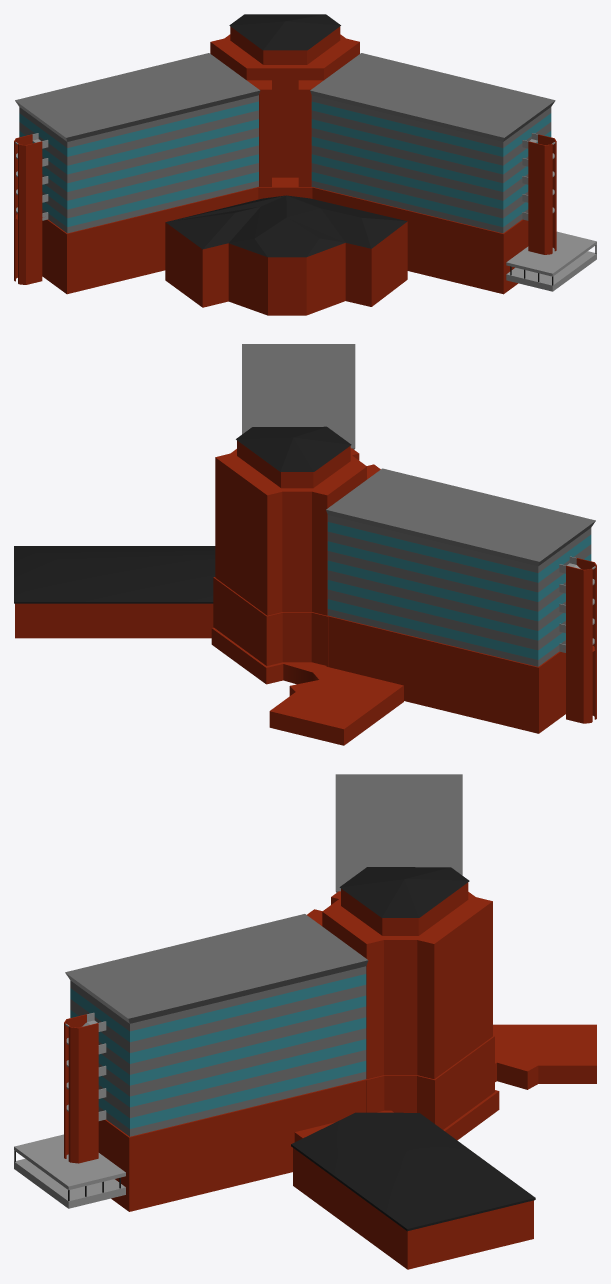
Rendered from ExteriorHospital.fbx.
3 views of the same model, one above another, from view 1: azimuth 30°, elevation 25°; view 2: azimuth 150°, elevation 25°; view 3: azimuth 270°, elevation 25° (orthographic). The views are drawn at different scales.
Parts seen in each view (by area): view 1: Line011; view 2: Line011; view 3: Line011.
Part boxes in pixels (x1=…): Line011: x1=14, y1=14, x2=596, y2=315; Line011: x1=14, y1=344, x2=596, y2=745; Line011: x1=14, y1=774, x2=596, y2=1269.
Bounding box in the file's own units: 14485 × 5103 × 11291.
